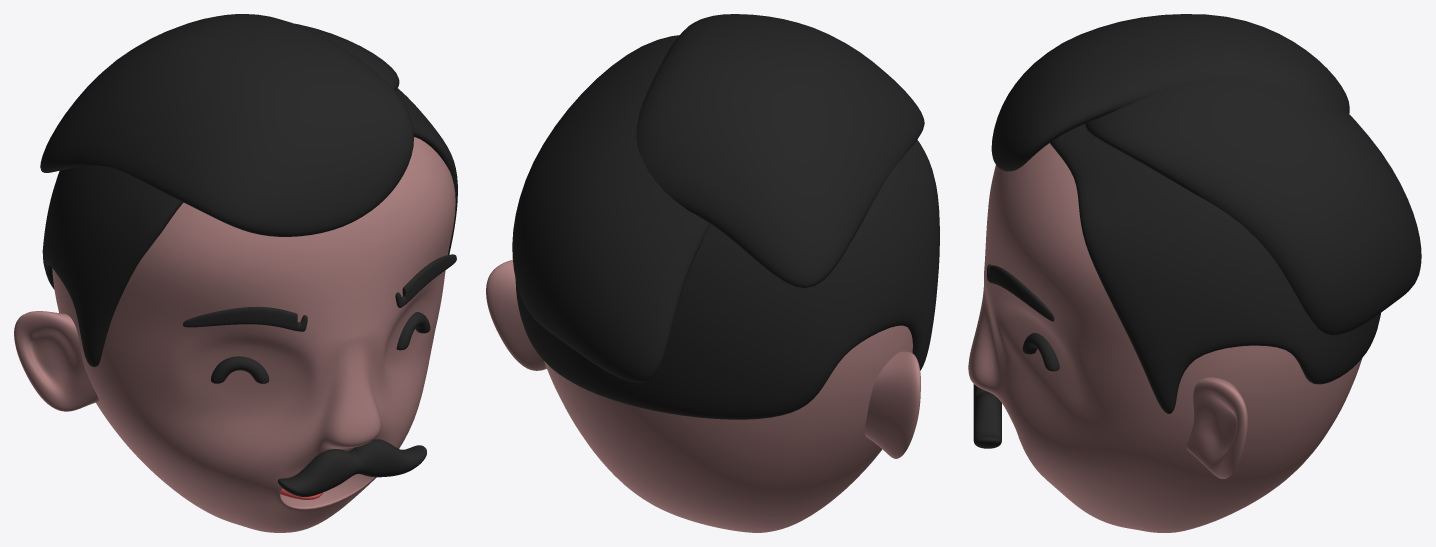
3 views of the same model, side by side, from view 1: azimuth 30°, elevation 25°; view 2: azimuth 150°, elevation 25°; view 3: azimuth 270°, elevation 25° (orthographic). The views are drawn at different scales.
Parts seen in each view (by area): view 1: polySurface202, polySurface205, polySurface199, polySurface201, polySurface193, polySurface197, polySurface203, polySurface196, polySurface213, polySurface212; view 2: polySurface205, polySurface199, polySurface203, polySurface202, polySurface201, polySurface200; view 3: polySurface202, polySurface203, polySurface199, polySurface205, polySurface200, polySurface193, polySurface196, polySurface212.
Boxes of the visible parts, <box> form: polySurface202: <box>52,137,455,532</box>; polySurface205: <box>40,14,413,236</box>; polySurface199: <box>42,88,457,366</box>; polySurface201: <box>14,311,98,411</box>; polySurface193: <box>277,439,426,496</box>; polySurface197: <box>183,306,307,331</box>; polySurface203: <box>294,23,399,90</box>; polySurface196: <box>395,254,456,307</box>; polySurface213: <box>211,356,269,383</box>; polySurface212: <box>396,312,430,350</box>; polySurface205: <box>636,14,924,288</box>; polySurface199: <box>515,140,939,419</box>; polySurface203: <box>512,35,710,382</box>; polySurface202: <box>544,325,912,532</box>; polySurface201: <box>865,351,920,458</box>; polySurface200: <box>486,260,546,370</box>; polySurface202: <box>968,143,1362,532</box>; polySurface203: <box>1085,81,1421,335</box>; polySurface199: <box>1050,124,1380,413</box>; polySurface205: <box>991,14,1349,171</box>; polySurface200: <box>1186,377,1247,478</box>; polySurface193: <box>973,384,1001,448</box>; polySurface196: <box>987,264,1054,321</box>; polySurface212: <box>1022,333,1059,371</box>.
Bounding box in the file's own units: 2.08 × 2.24 × 1.89.
